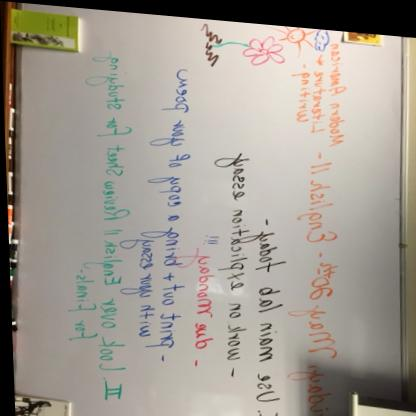Handwritten text: (130, 57, 201, 361), (78, 49, 131, 376), (213, 145, 253, 358), (248, 219, 286, 416), (283, 289, 341, 416), (291, 169, 350, 245), (123, 229, 159, 342), (60, 262, 96, 364), (184, 244, 218, 349), (325, 30, 353, 145), (281, 57, 315, 121), (308, 60, 328, 137)
Whiteboard: (20, 3, 409, 416)
